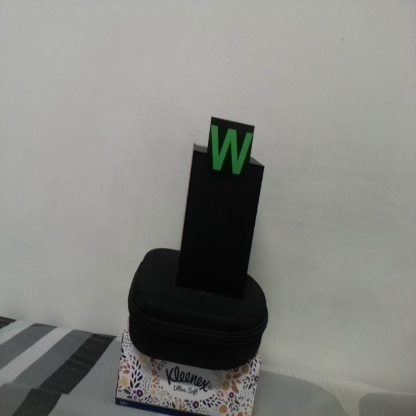id_12: (210, 120, 254, 182)
